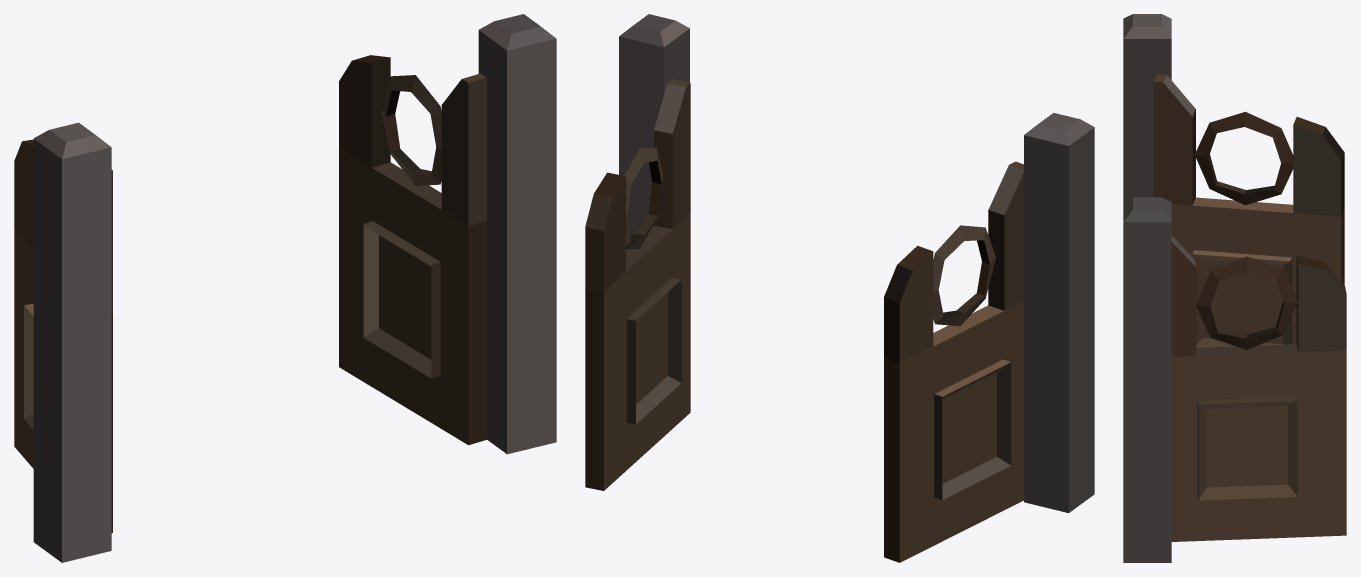
File: MidWall-GateBLOD1.fbx
The picture shows the model from 3 angles, left to right: view 1: azimuth 30°, elevation 25°; view 2: azimuth 150°, elevation 25°; view 3: azimuth 270°, elevation 25°; orthographic projection. The views are drawn at different scales.
Parts seen in each view (by area): view 1: MidWall-GateBLOD1; view 2: MidWall-GateBLOD1; view 3: MidWall-GateBLOD1.
Boxes of the visible parts, left/top/right/bottom form: MidWall-GateBLOD1: left=14, top=14, right=556, bottom=562; MidWall-GateBLOD1: left=585, top=14, right=1094, bottom=562; MidWall-GateBLOD1: left=1123, top=14, right=1346, bottom=562.
Size of the model in its own units: 250 by 200 by 116.
